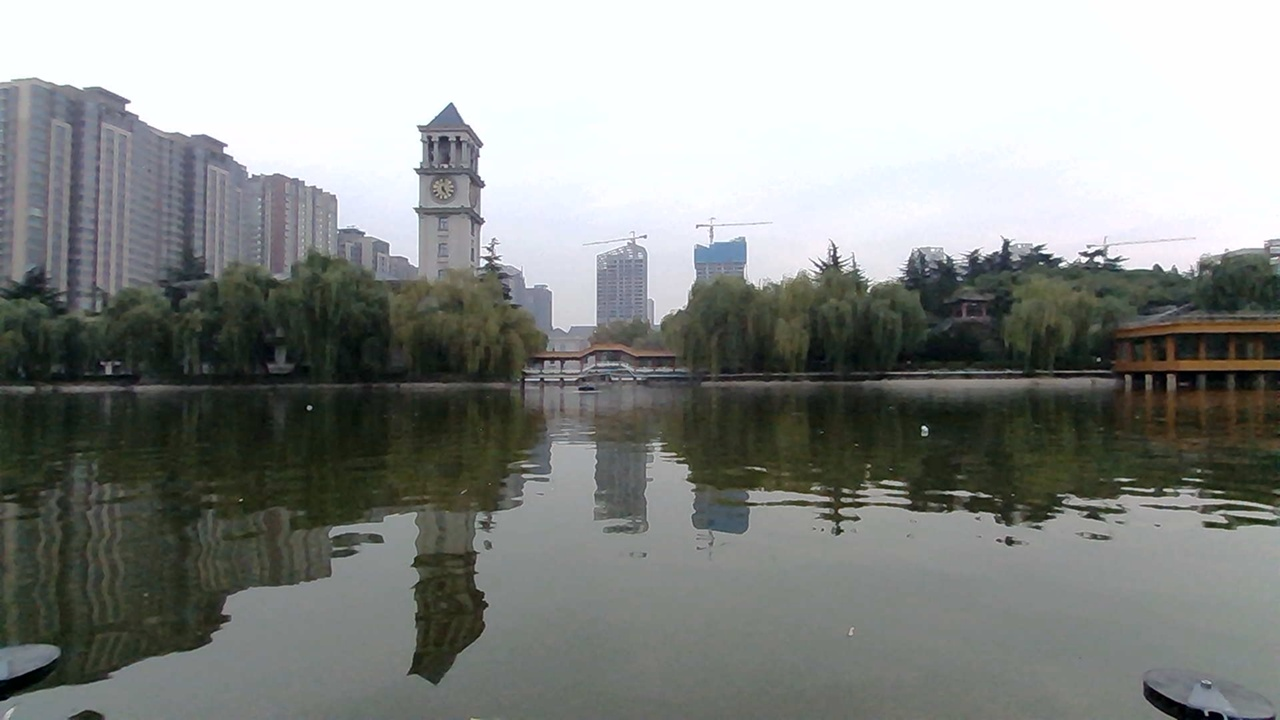bottle: (907, 417, 941, 442)
